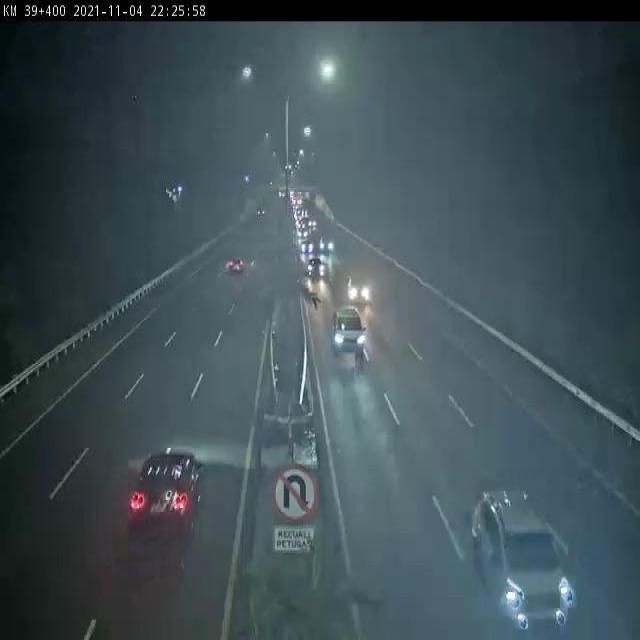car: (472, 490, 575, 630), (131, 451, 204, 528), (330, 308, 364, 357), (345, 272, 372, 303), (307, 258, 325, 274), (319, 237, 335, 251), (299, 240, 315, 253), (229, 257, 243, 271)
